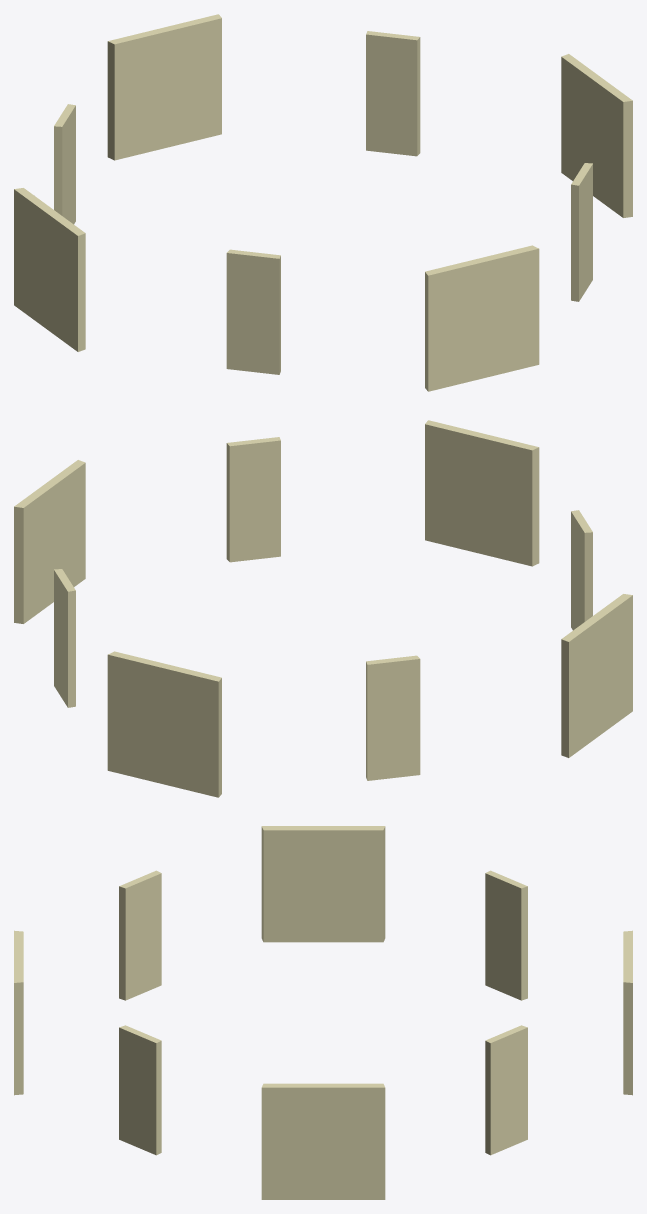
File: castle_pillars_1.FBX
3 views of the same model, one above another, from view 1: azimuth 30°, elevation 25°; view 2: azimuth 150°, elevation 25°; view 3: azimuth 270°, elevation 25° (orthographic). The views are drawn at different scales.
Visible parts, largest first — view 1: castle_pillars_1; view 2: castle_pillars_1; view 3: castle_pillars_1.
Part boxes in pixels (bbox=[...]): castle_pillars_1: bbox=[14, 14, 632, 391]; castle_pillars_1: bbox=[14, 420, 632, 797]; castle_pillars_1: bbox=[14, 826, 632, 1199].
Size of the model in its own units: 5000 by 1000 by 5000.
